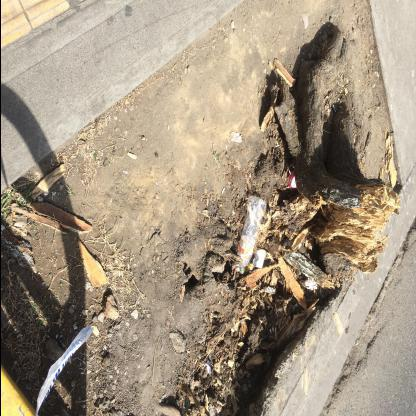diger: (36, 326, 94, 408)
karton: (286, 170, 297, 189)
plastik: (237, 195, 267, 276)
